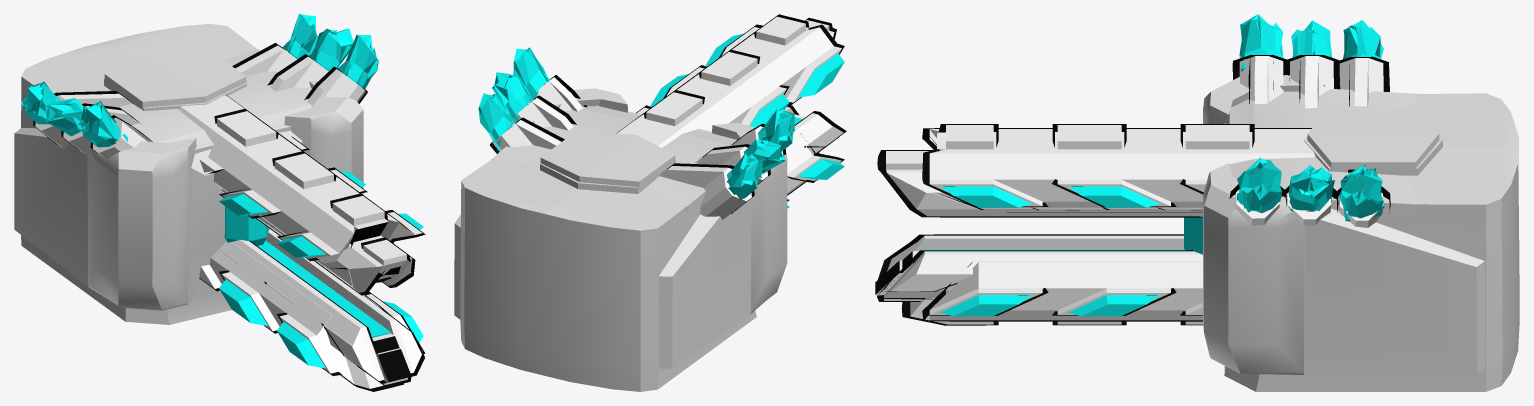
The model's file is nrailgun.fbx.
3 views of the same model, side by side, from view 1: azimuth 30°, elevation 25°; view 2: azimuth 150°, elevation 25°; view 3: azimuth 270°, elevation 25° (orthographic). The views are drawn at different scales.
Parts seen in each view (by area): view 1: Turret, Railgun, Crystals; view 2: Turret, Railgun, Crystals; view 3: Turret, Railgun, Crystals.
Boxes of the visible parts, left/top/right/bottom form: Turret: left=14, top=23, right=363, bottom=324; Railgun: left=178, top=95, right=425, bottom=391; Crystals: left=21, top=14, right=378, bottom=158; Turret: left=454, top=88, right=787, bottom=391; Railgun: left=616, top=14, right=846, bottom=208; Crystals: left=478, top=47, right=794, bottom=219; Turret: left=1203, top=75, right=1519, bottom=391; Railgun: left=875, top=124, right=1315, bottom=325; Crystals: left=1229, top=14, right=1390, bottom=227.
Bounding box in the file's own units: 115 × 49.73 × 69.68.
